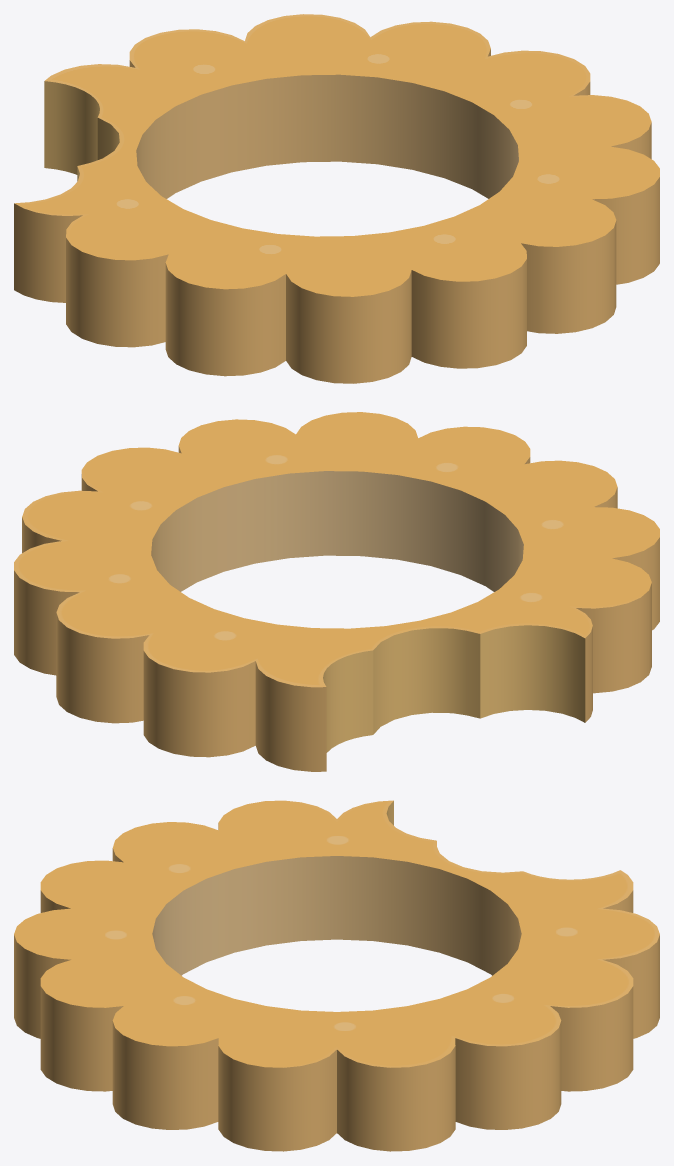
Rendered from Cookie.FBX.
3 renders of one model, top to bottom at view 1: azimuth 30°, elevation 25°; view 2: azimuth 150°, elevation 25°; view 3: azimuth 270°, elevation 25°, orthographic. The views are drawn at different scales.
Parts seen in each view (by area): view 1: Cookie; view 2: Cookie; view 3: Cookie.
Boxes of the visible parts, x1=… form: Cookie: x1=14, y1=14, x2=659, y2=383; Cookie: x1=14, y1=412, x2=659, y2=771; Cookie: x1=14, y1=800, x2=659, y2=1151.
Size of the model in its own units: 47.96 by 7 by 48.97.
1 material, 1 textured.
